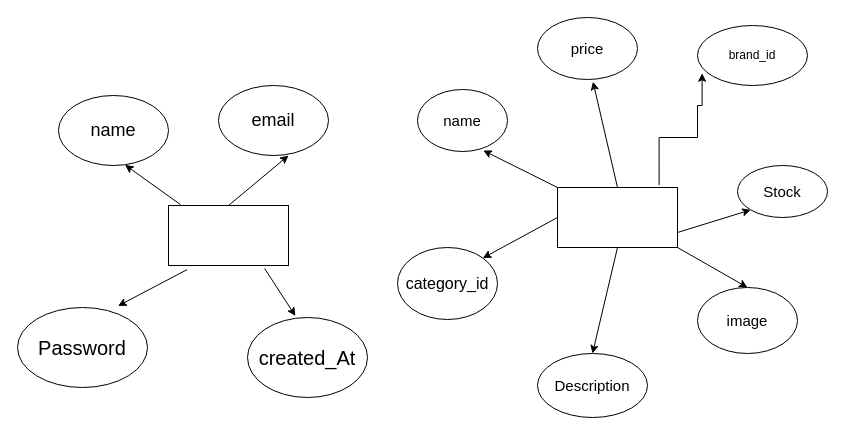
Image size: 845x435. Some labels were removed from this diagram. Each missing label, with the centre of its shape:
Product: point (617, 217)
User: point (228, 235)
